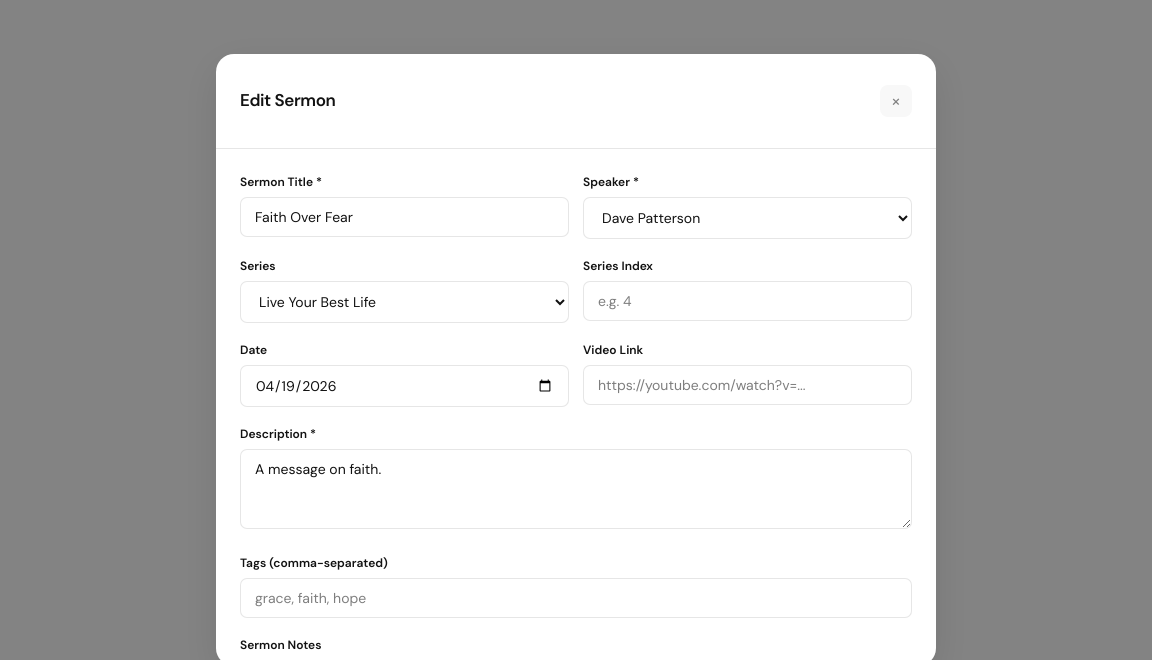
Test case: EditSermonModal fields › refuses a missing speaker without sending anything
Select "Select speaker" in the dropdown named "Speaker" at (748, 218), box [583,197,912,239]
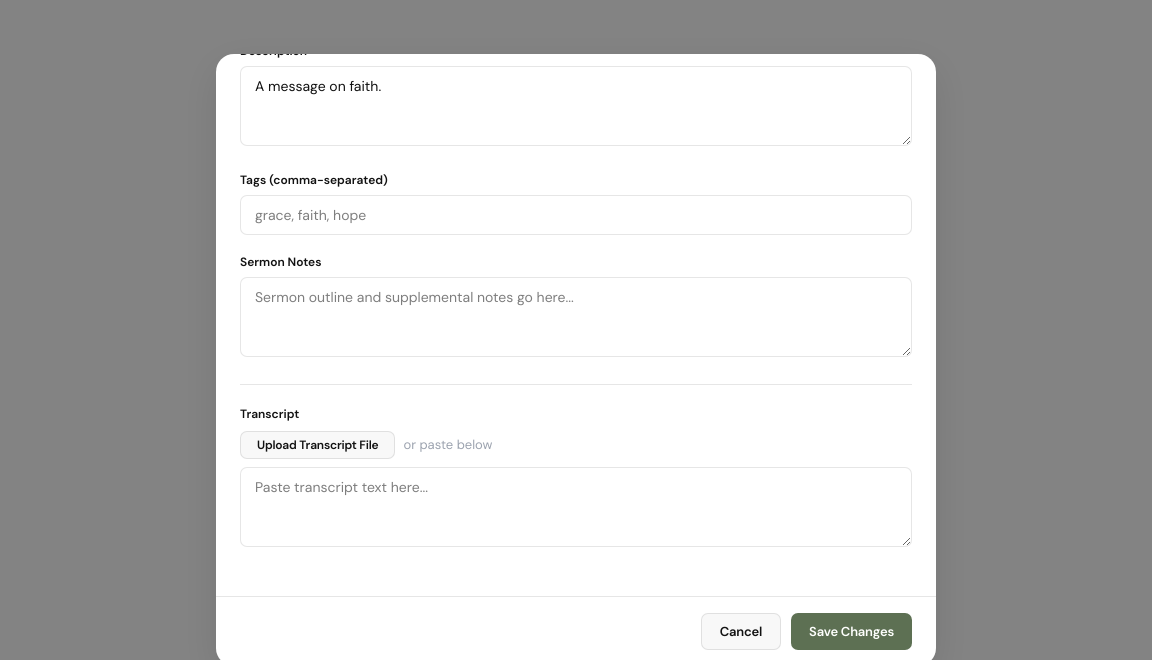
Click the button "Save Changes".
click(852, 631)  # box [791,613,912,650]
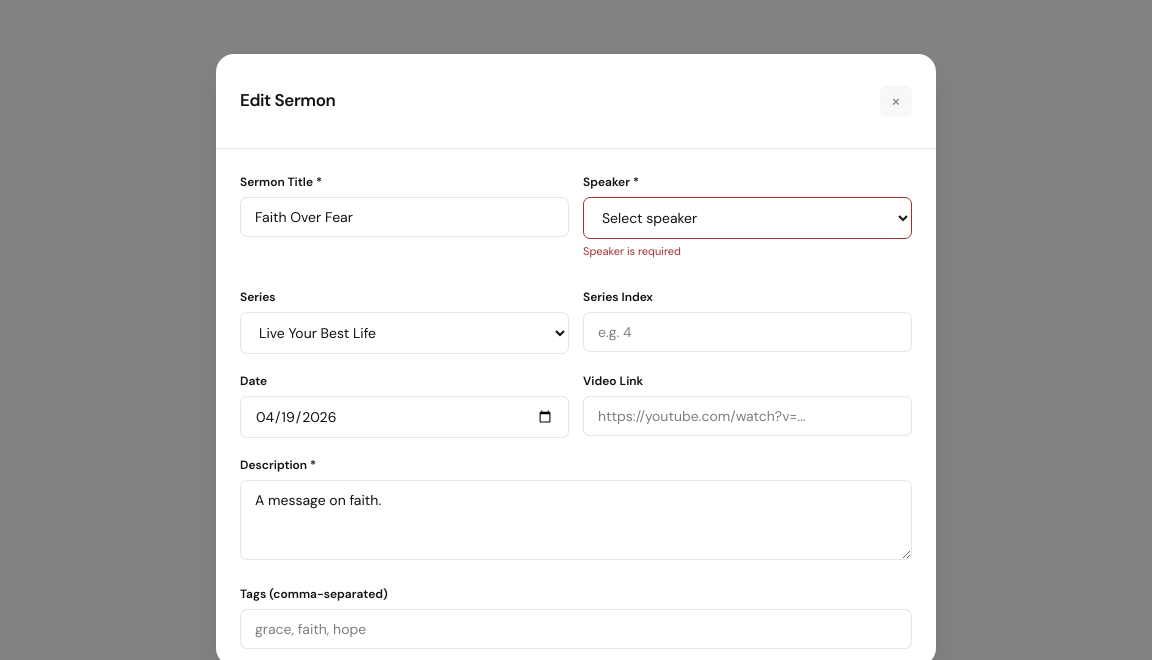
Check: the text "Speaker is required" is shown, box [583,244,681,258]
